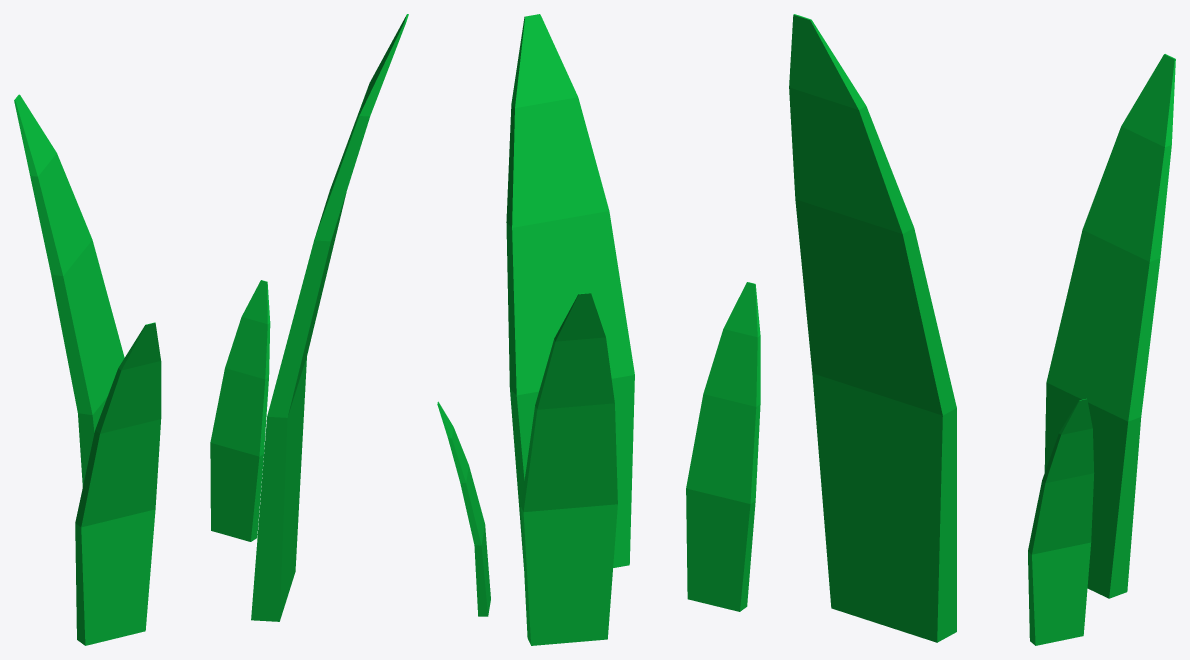
Rendered from Herbe_3.fbx.
3 renders of one model, left to right at view 1: azimuth 30°, elevation 25°; view 2: azimuth 150°, elevation 25°; view 3: azimuth 270°, elevation 25°, orthographic. The views are drawn at different scales.
Parts seen in each view (by area): view 1: Herbe_3; view 2: Herbe_3; view 3: Herbe_3.
Part boxes in pixels (<box>): Herbe_3: <box>14,14,408,645</box>; Herbe_3: <box>437,14,760,645</box>; Herbe_3: <box>789,14,1175,645</box>.
Bounding box in the file's own units: 5.81 × 10.93 × 5.86.
